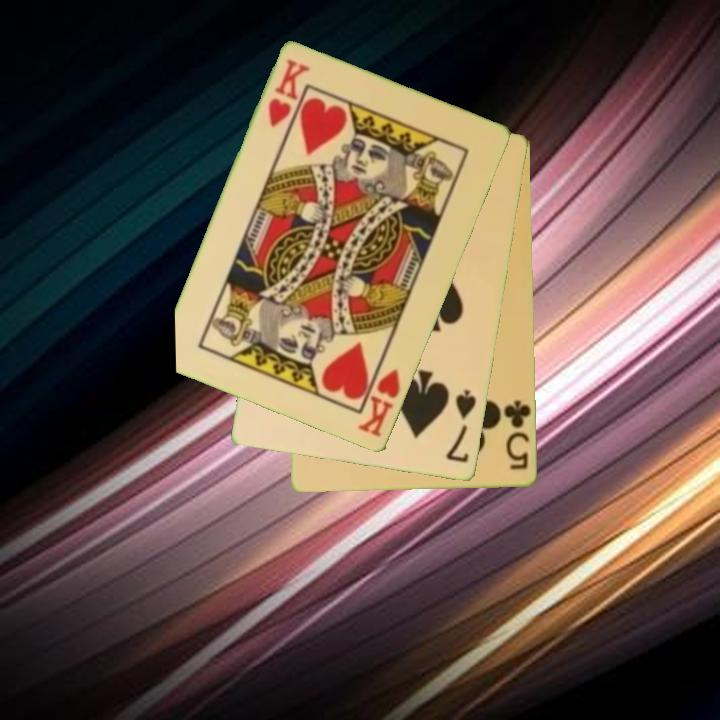5c: (501, 397, 534, 473)
7s: (443, 386, 480, 466)
Kh: (354, 355, 404, 441), (265, 56, 313, 131)
